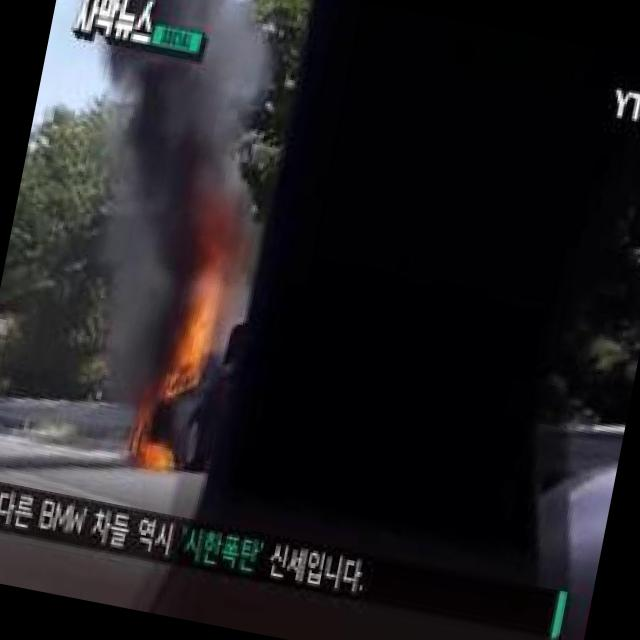Fire: (160, 298, 226, 405), (134, 432, 188, 476)
Smoke: (74, 46, 285, 300)
